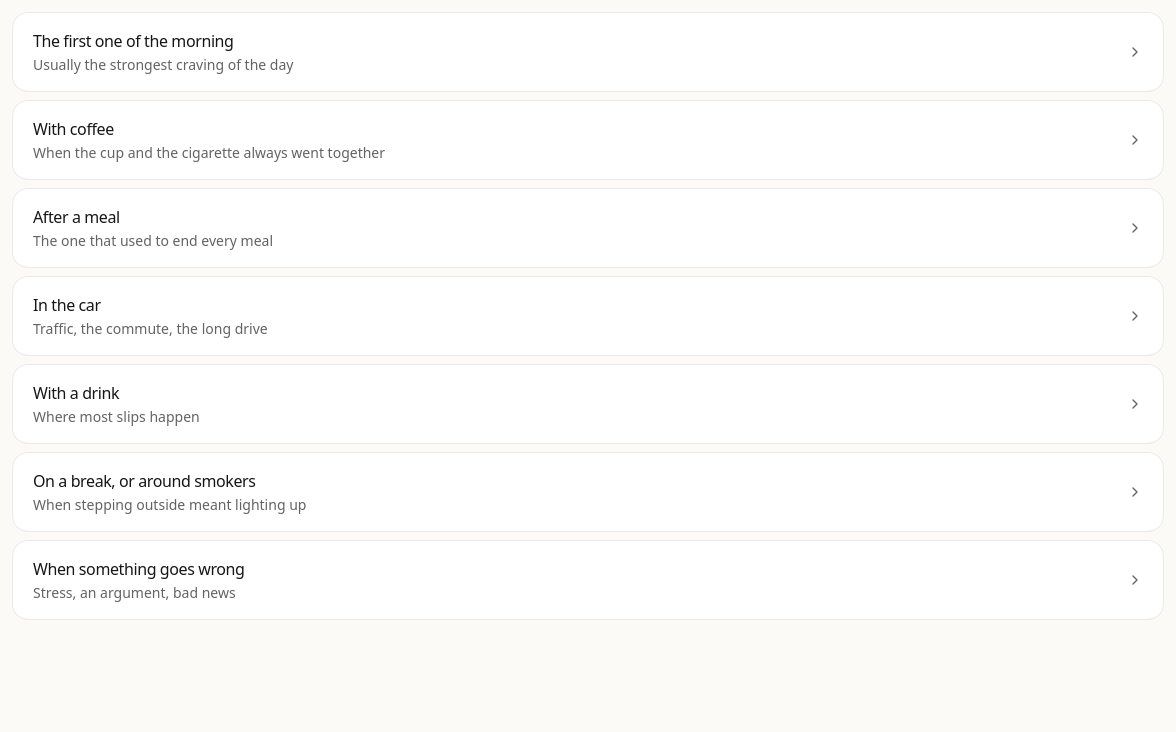
Test case: UrgeResistance › navigates to strategy details when clicked
Click the text "With coffee" at (73, 129), box 33,118 -> 114,140
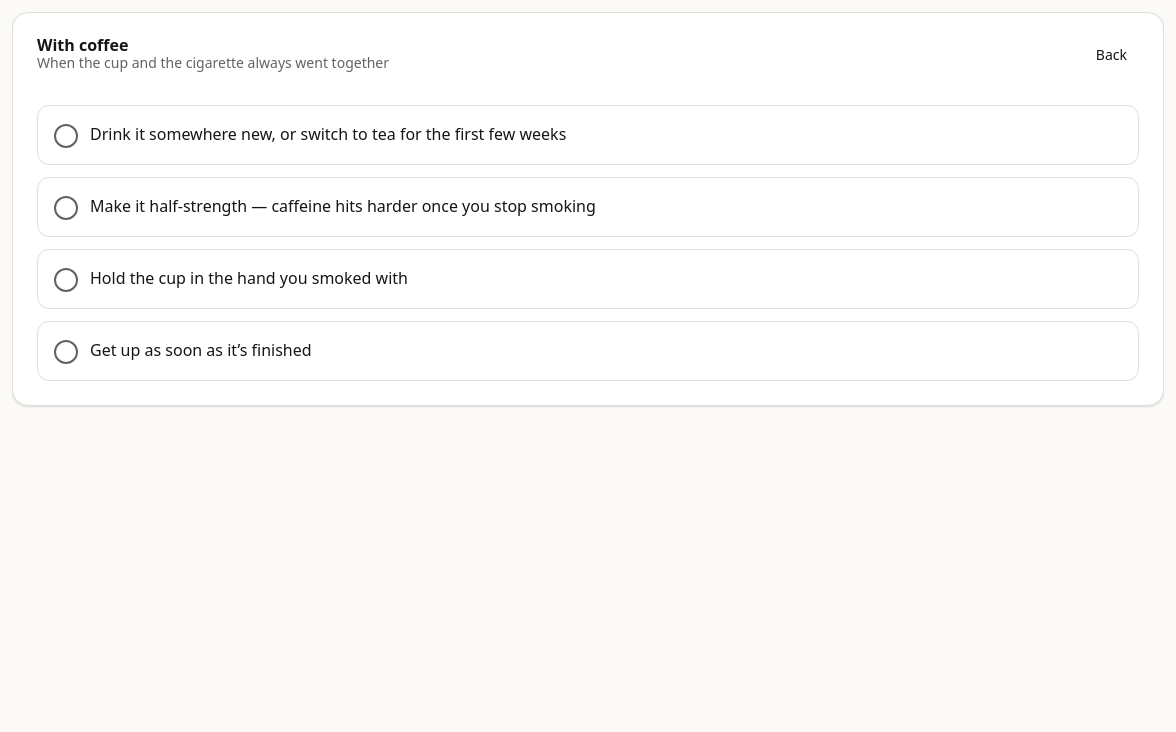
Now the button "Back" is shown, box 1084,39 -> 1139,71
